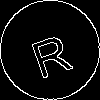R: (25, 25, 75, 80)
